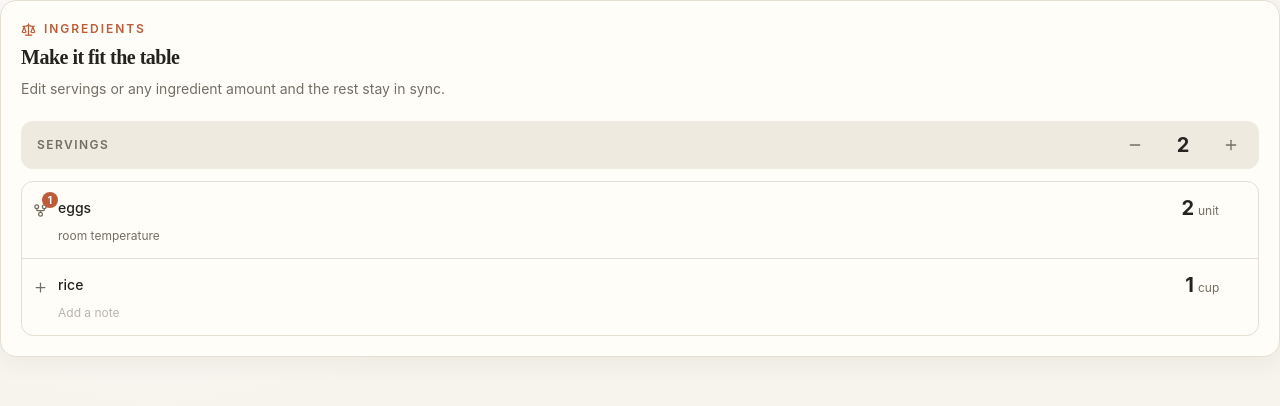
Test: IngredientEditor › shows a semantic variant icon, count badge, and menu when an ingredient has alternatives
Expected: the text named "1 variant for eggs" reads "1", [48,194,52,206]
Click the button named "Edit variants for eggs". click: (40, 210)
box: [26,196,54,224]
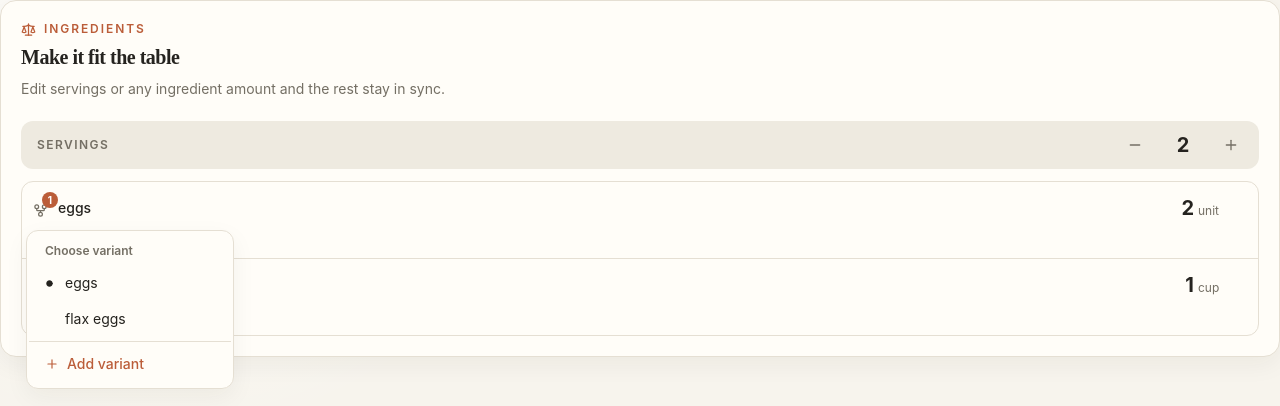
Expected: the menu item "eggs" is shown, [46,274,98,291]
Click the menu item "flax eggs". click: (95, 318)
box: [65,310,126,327]
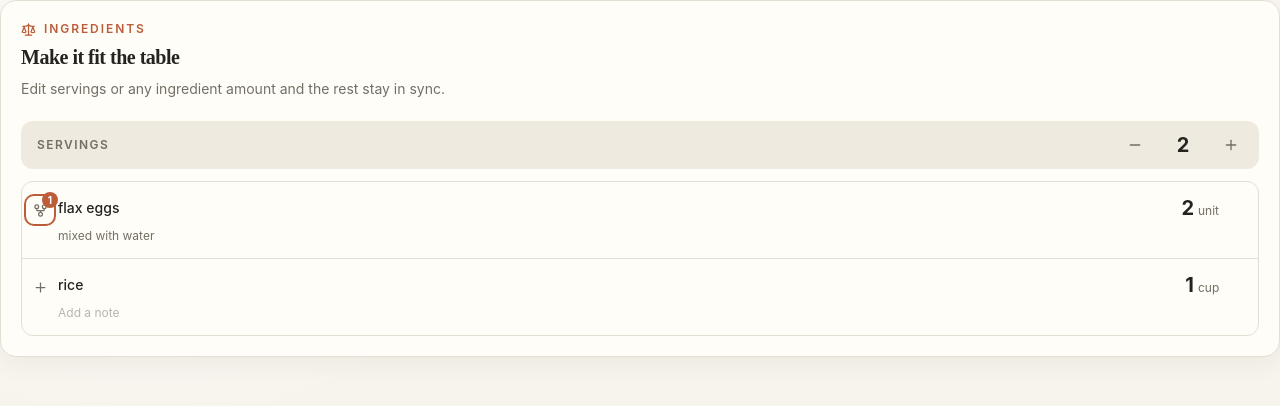
Expected: the text box named "Name for flax eggs" holds "flax eggs", [58,190,863,218]
Expected: the text box named "Notes for flax eggs" holds "mixed with water", [58,224,1254,248]
